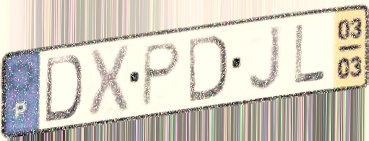D: (42, 53, 85, 125), (187, 32, 230, 104)
J: (246, 23, 284, 94)
L: (293, 22, 328, 87)
P: (139, 39, 184, 110)
X: (87, 43, 131, 121)
